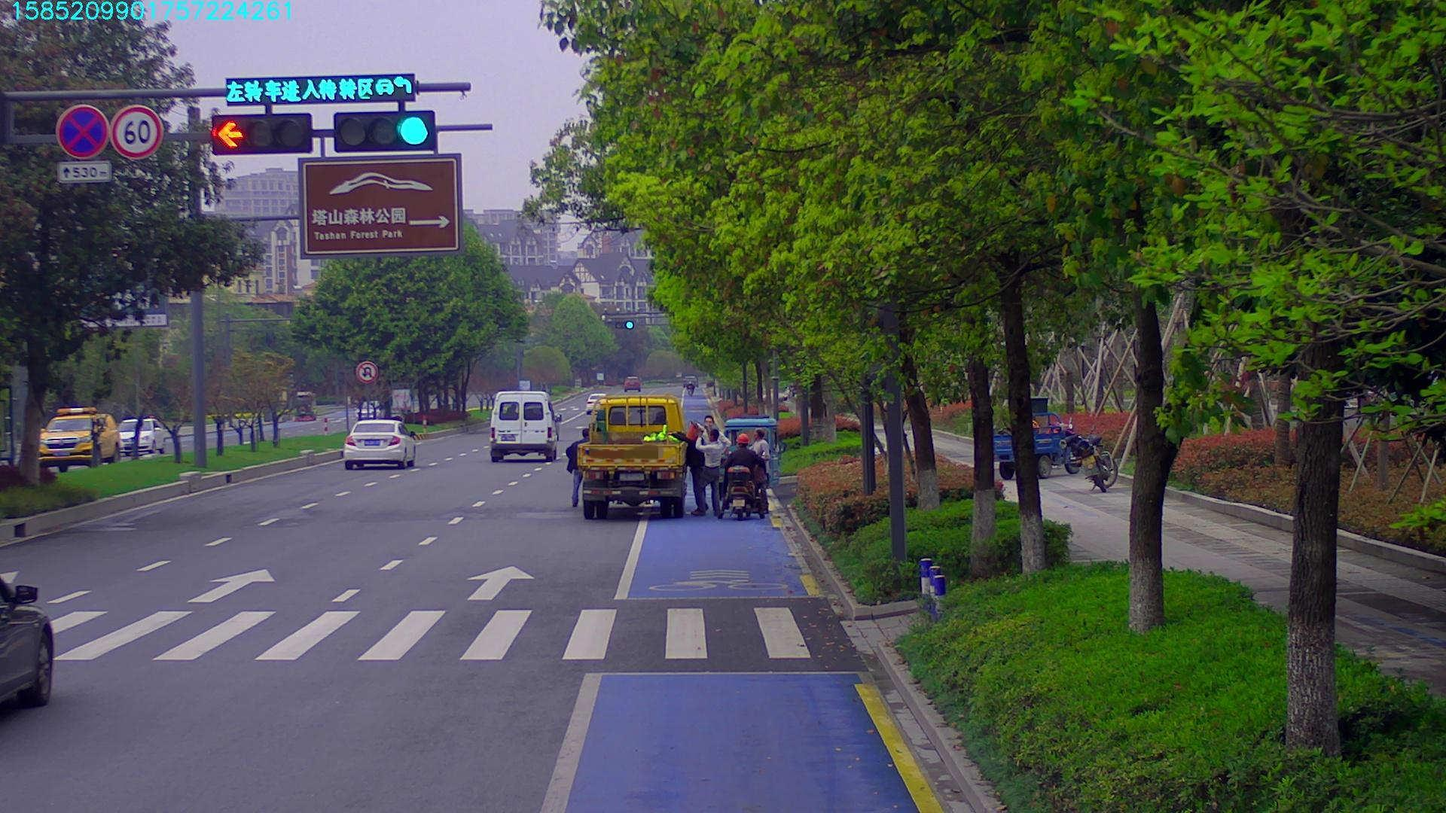green: (331, 113, 436, 148)
red: (209, 115, 306, 147)
wait_on: (218, 76, 416, 105)
